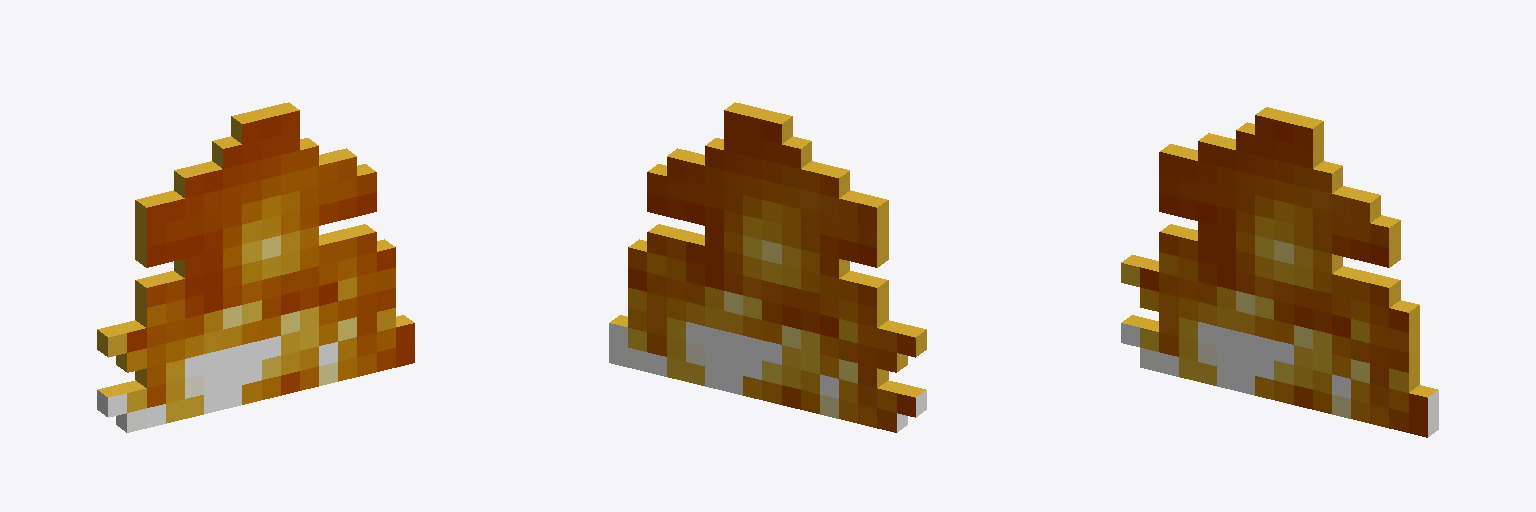
3 views of the same model, side by side, from view 1: azimuth 30°, elevation 25°; view 2: azimuth 150°, elevation 25°; view 3: azimuth 330°, elevation 25° (orthographic).
Parts seen in each view (by area): view 1: cube; view 2: cube; view 3: cube.
Part boxes in pixels (x1,y1,x2,y2): cube: (97, 102, 414, 432); cube: (609, 102, 926, 432); cube: (1121, 107, 1438, 437).
Bounding box in the file's own units: 1 × 0.875 × 0.0625.
Materials: 1 (1 with a texture image).